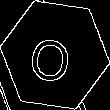O_N: (32, 27, 78, 83)
